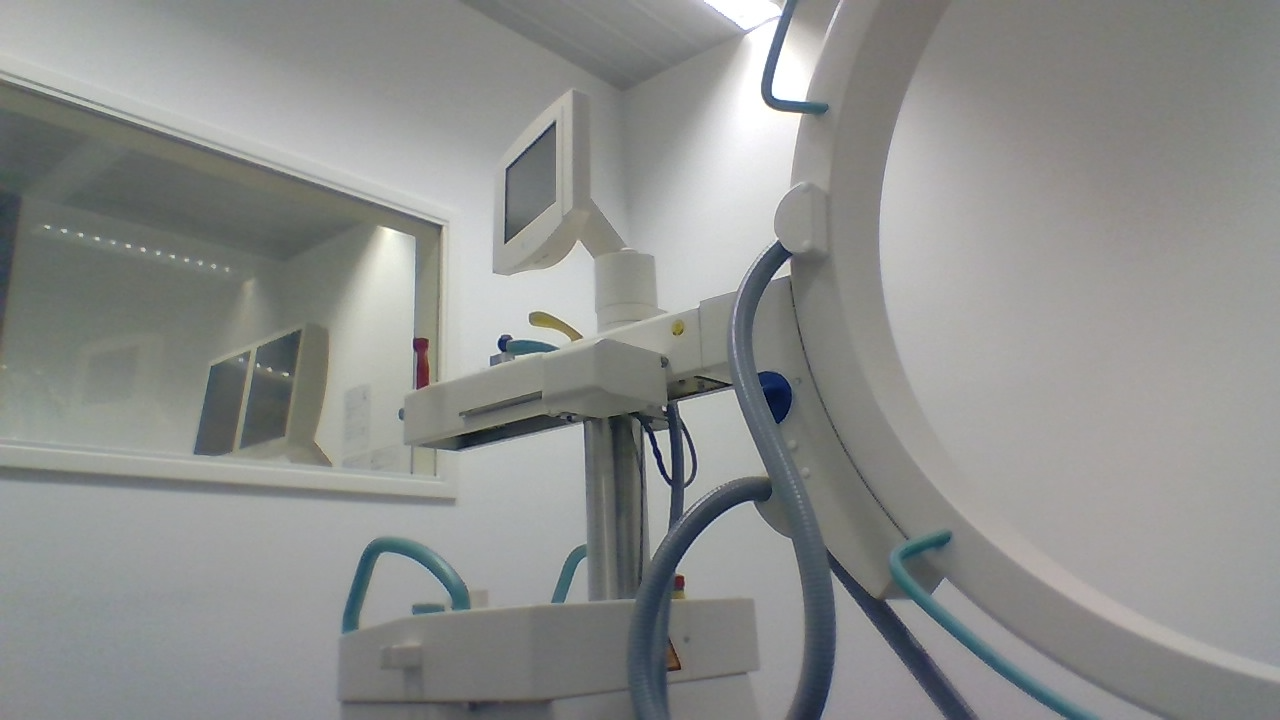carmBACK: (406, 602, 485, 625)
carmLOCK: (744, 367, 795, 425)
carmSCREEN: (490, 87, 594, 279)
